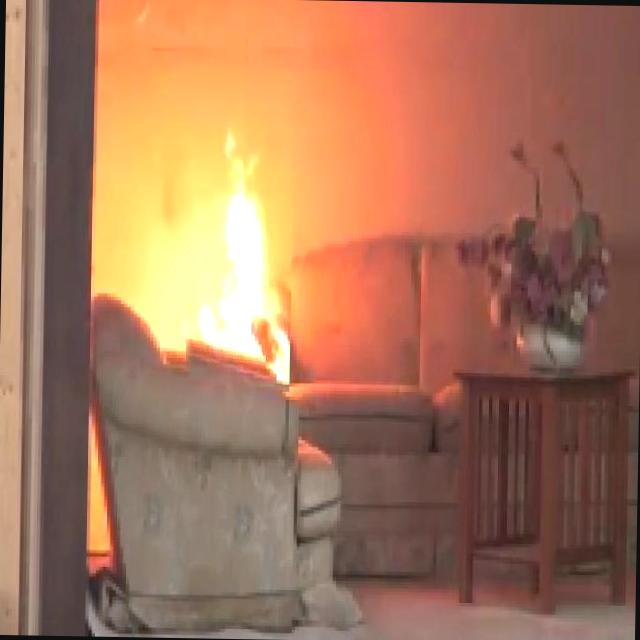fire: (172, 142, 290, 352)
